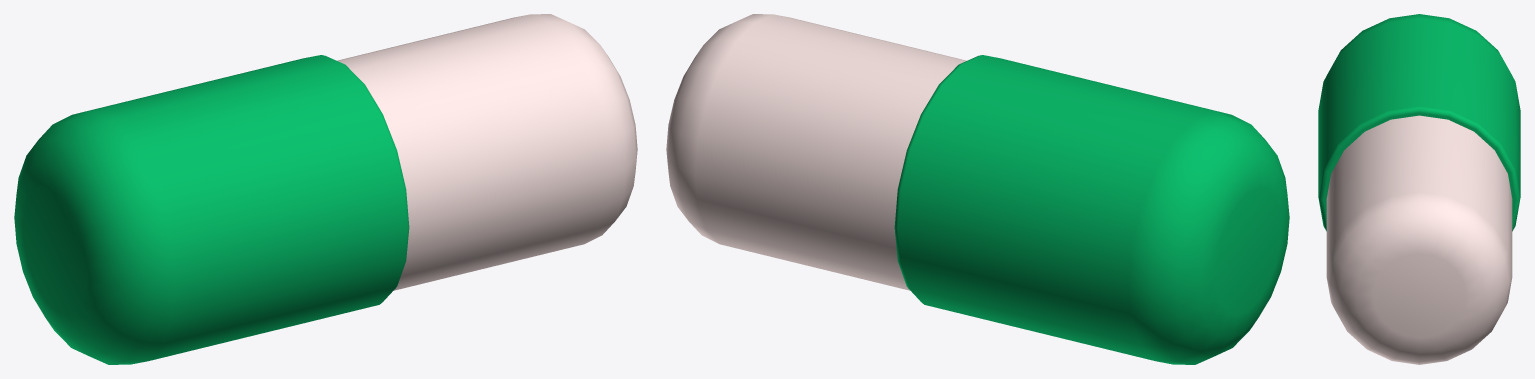
The model's file is Public_3_Pill_9.glb.
3 renders of one model, left to right at view 1: azimuth 30°, elevation 25°; view 2: azimuth 150°, elevation 25°; view 3: azimuth 270°, elevation 25°, orthographic. The views are drawn at different scales.
Visible parts, largest first — view 1: Public_3_Pill_9; view 2: Public_3_Pill_9; view 3: Public_3_Pill_9.
Boxes of the visible parts, x1,y1,x2,y2 form: Public_3_Pill_9: (14, 14, 637, 364); Public_3_Pill_9: (666, 14, 1289, 364); Public_3_Pill_9: (1318, 14, 1520, 364).
Bounding box in the file's own units: 1.92 × 0.7923 × 0.7923.
1 material, 1 textured.
